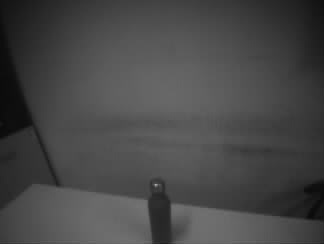Bottle: (147, 179, 172, 244)
